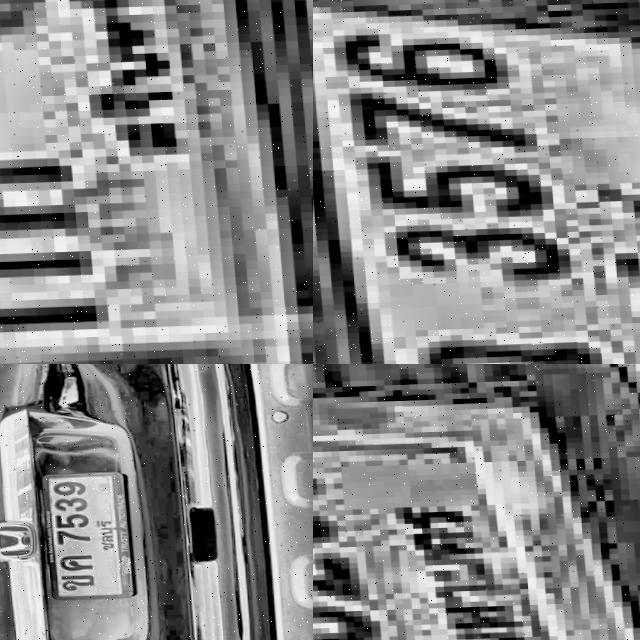license-plate: (313, 0, 640, 364), (0, 0, 313, 364), (313, 374, 640, 640), (35, 468, 132, 600)
